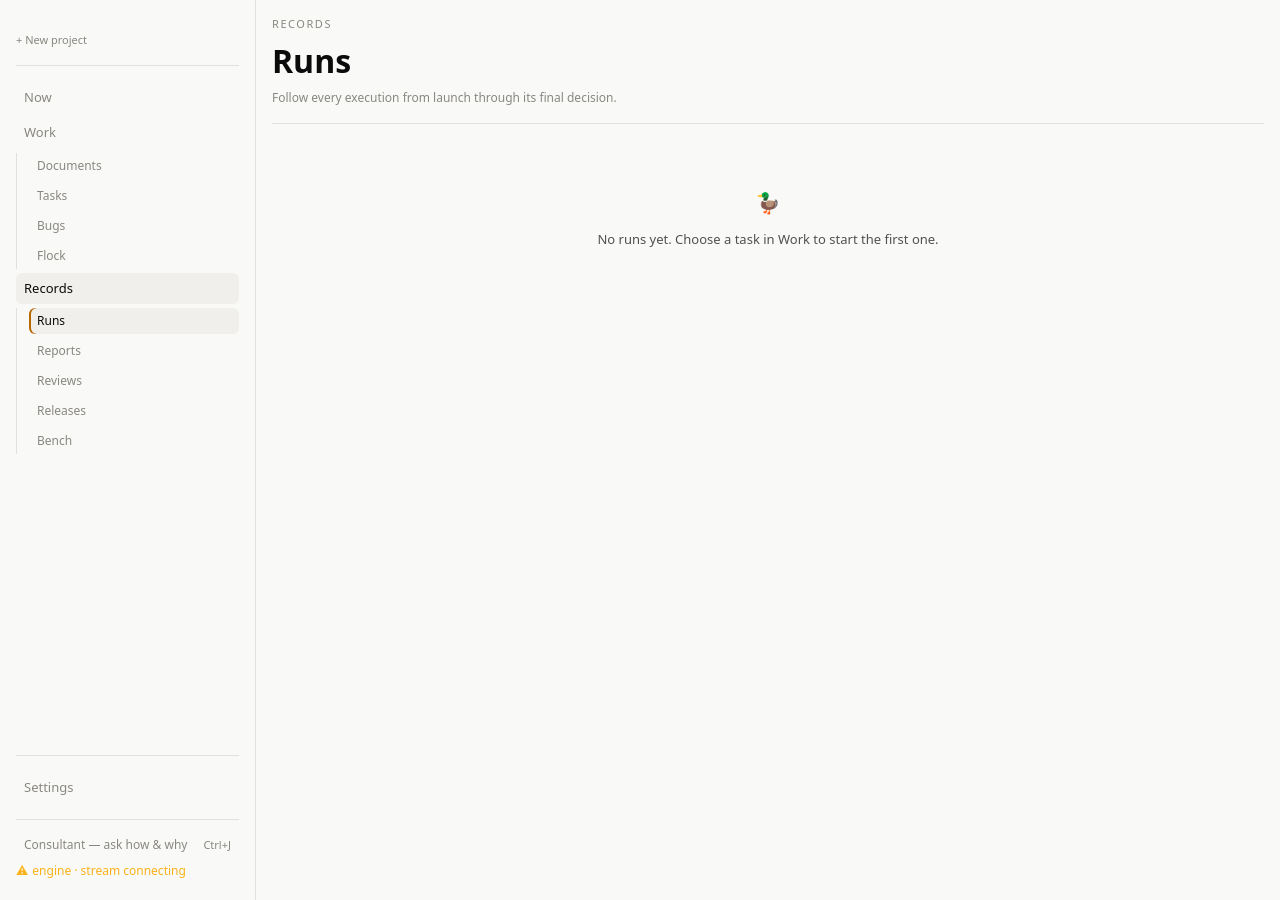
Scenario: the consultant pane in the app › opens with the shortcut, keeps the conversation while navigating, and hides again
Expected: the button with test id "consultant-pane-toggle" is shown, [16,832,239,858]
Step 1. Press j
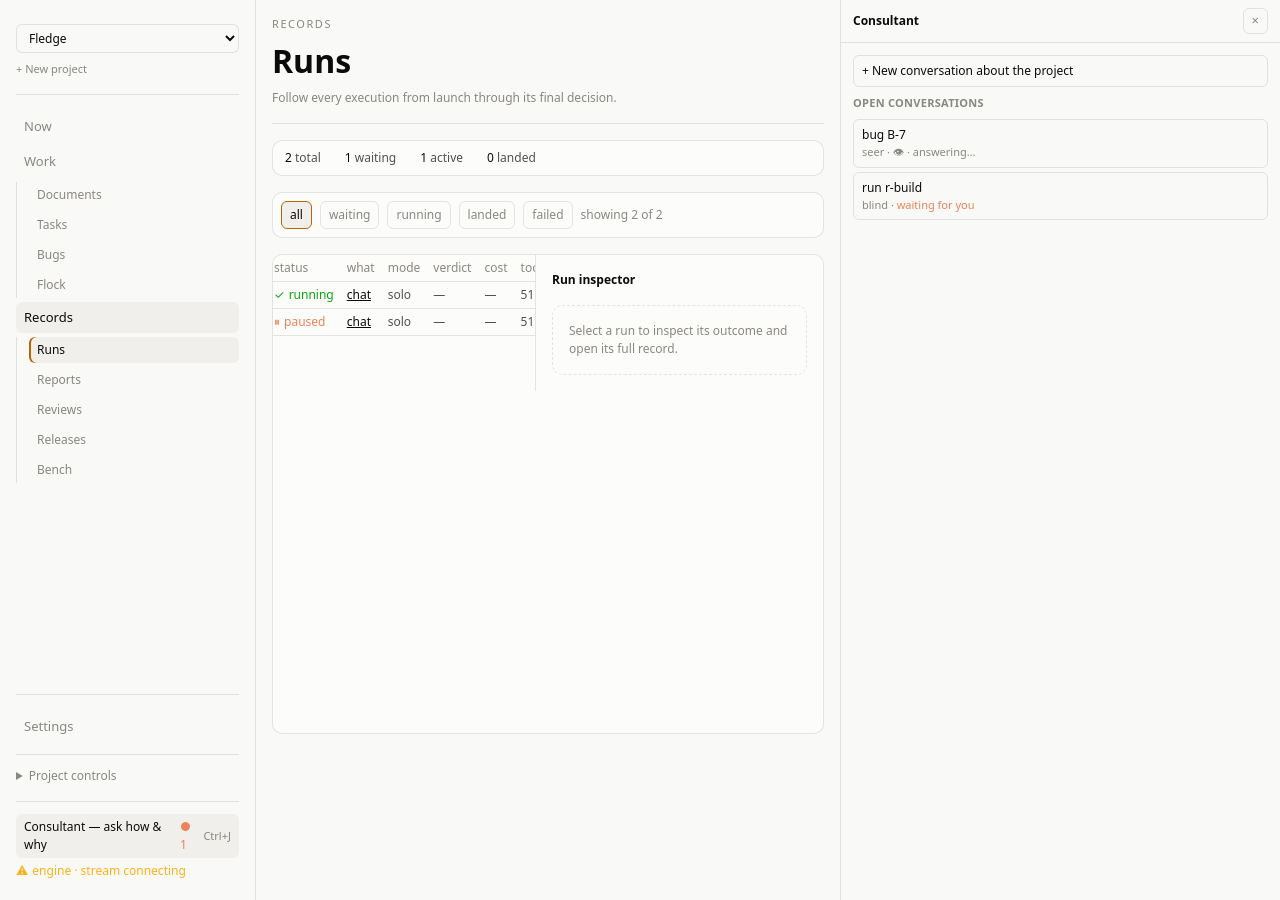
Now the button with test id "consultant-conversation-r-chat" shows "run r-build"
Now the button with test id "consultant-conversation-r-chat" shows "blind"
Now the button with test id "consultant-conversation-r-chat" shows "waiting for you"
Step 2. Click the button with test id "consultant-conversation-r-chat" → click(892, 187), box [853,172,1268,220]
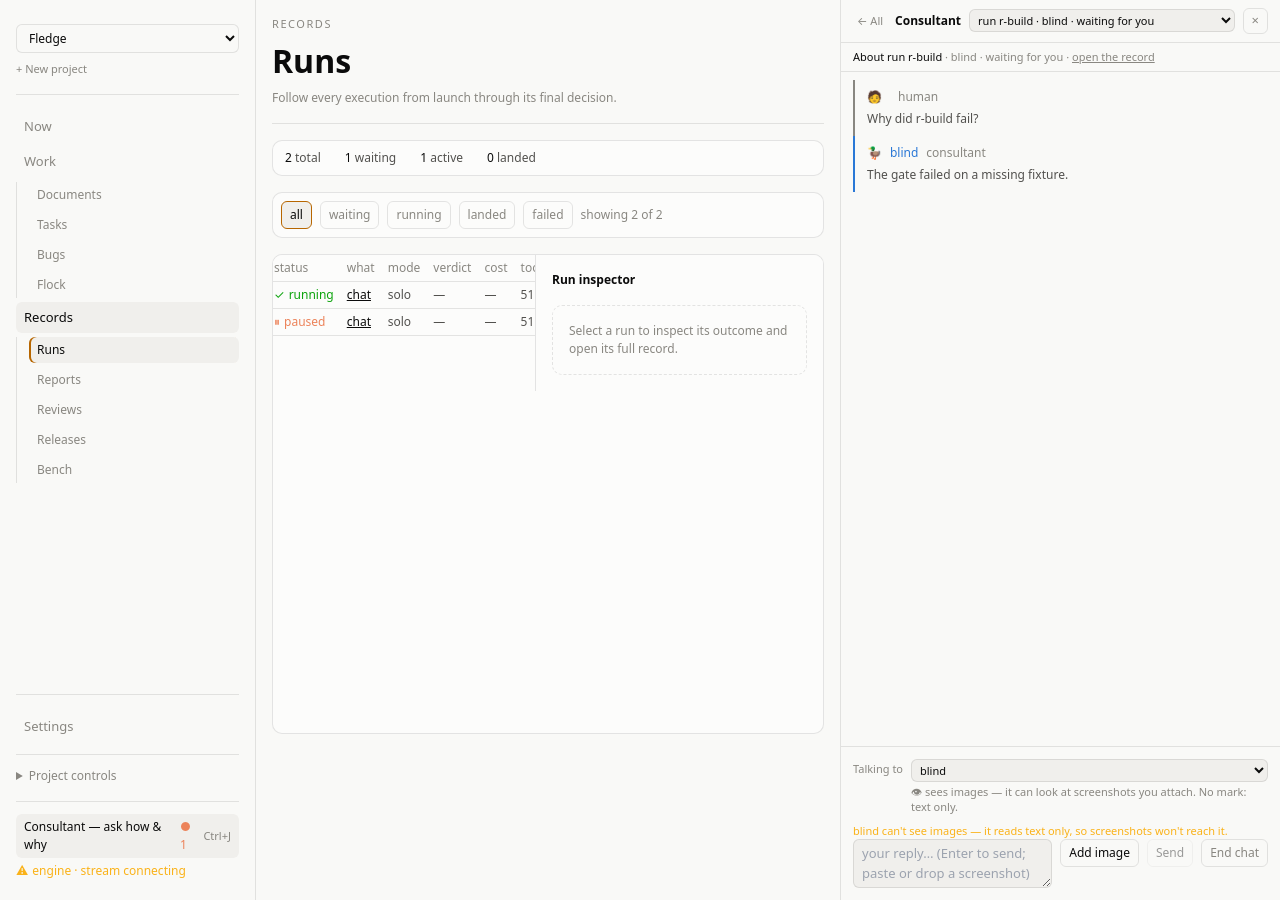
Now the element with test id "consultant-pane" is shown, box [840,0,1279,899]
Now the element with test id "runs-view" is shown, box [272,16,824,734]
Now the text "The gate failed on a missing fixture." is shown, box [867,166,1068,183]
Switch between the open conversations from the pane.
Step 3. Select "bug B-7 · seer · answering…" in the dropdown with test id "consultant-pane-switch" → (1102, 21), box [969,9,1235,32]
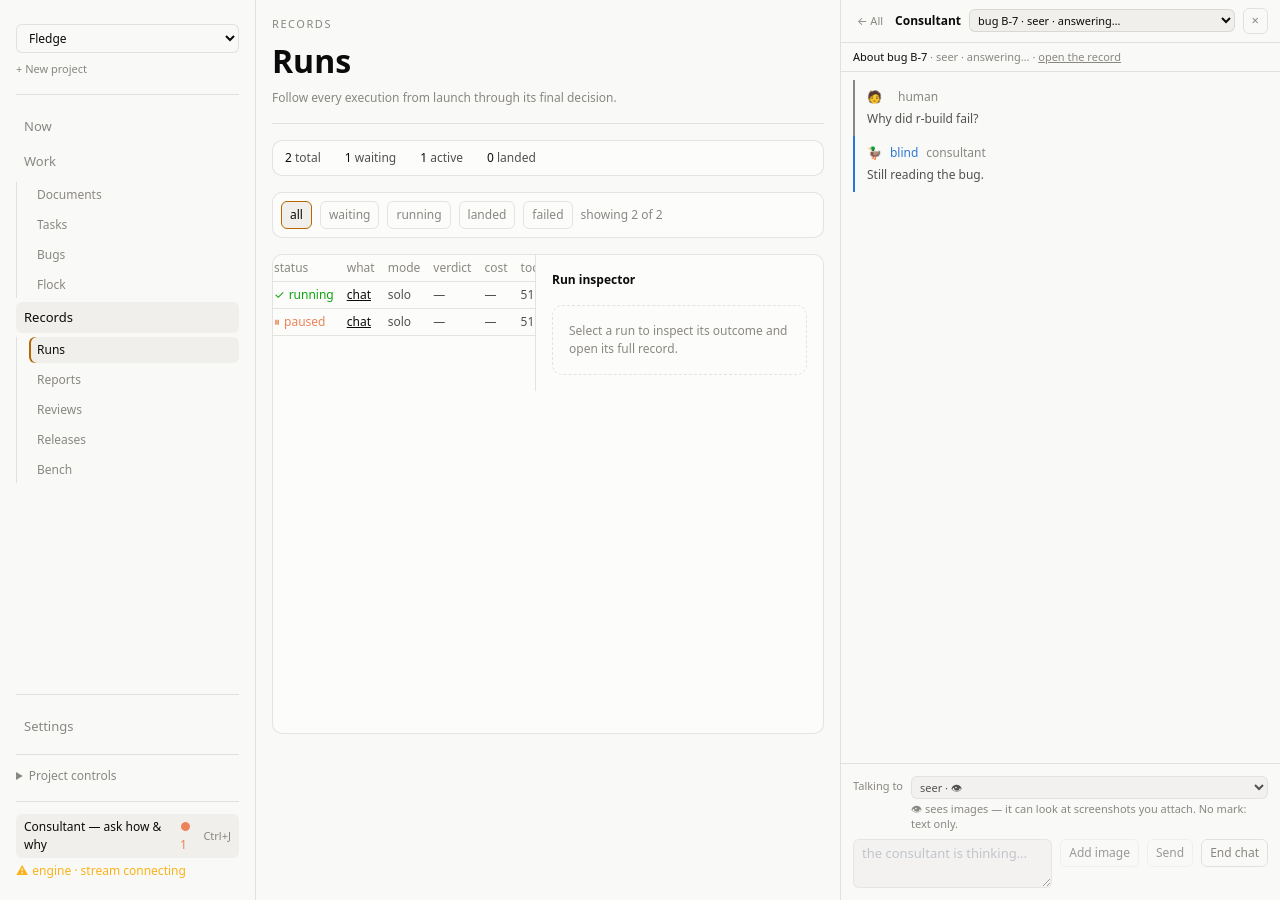
Now the text "Still reading the bug." is shown, box [867,166,984,183]
Step 4. Click the button with test id "consultant-pane-close" → click(1255, 21), box [1243,8,1268,34]
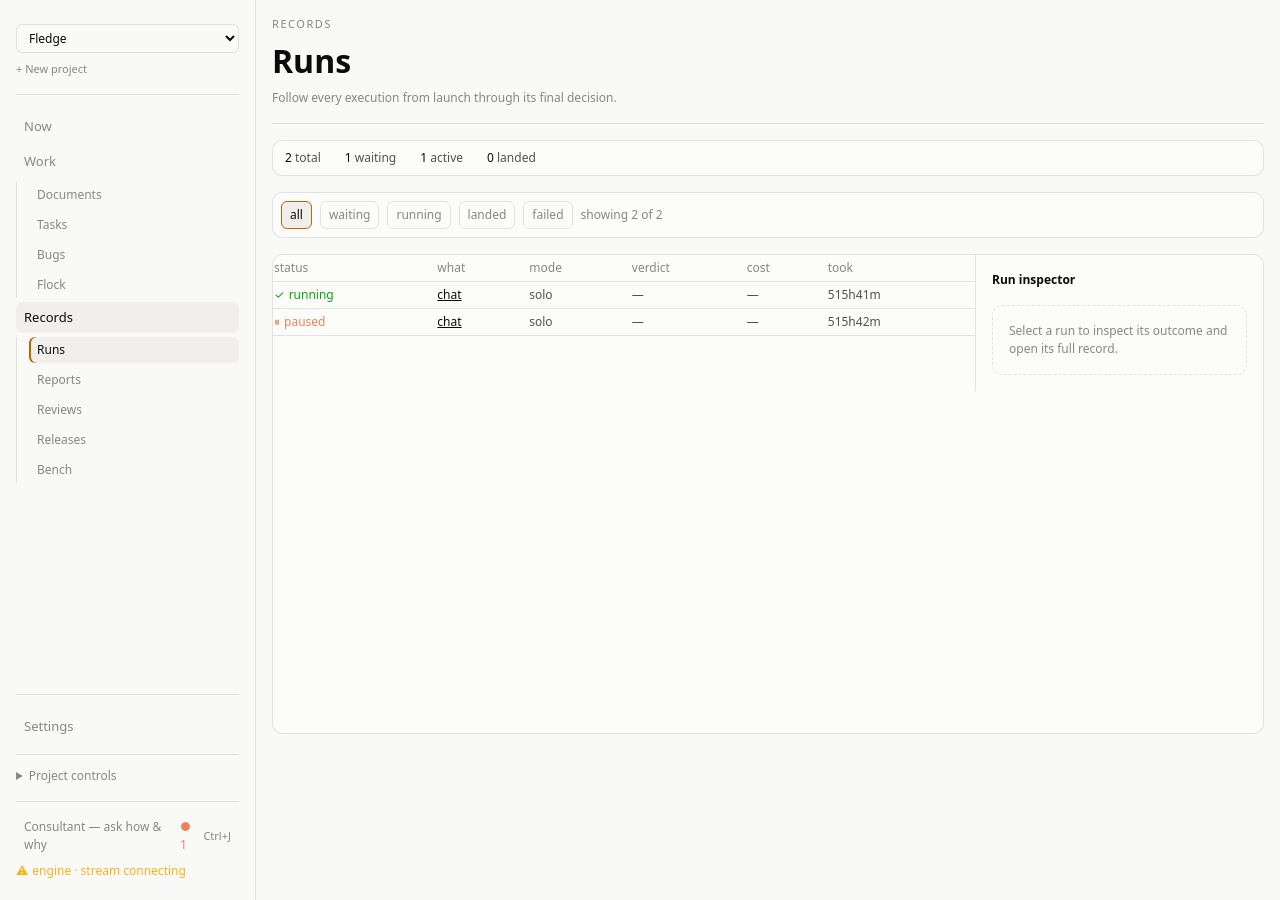
Now the element with test id "consultant-pane" is gone
Step 5. Press j
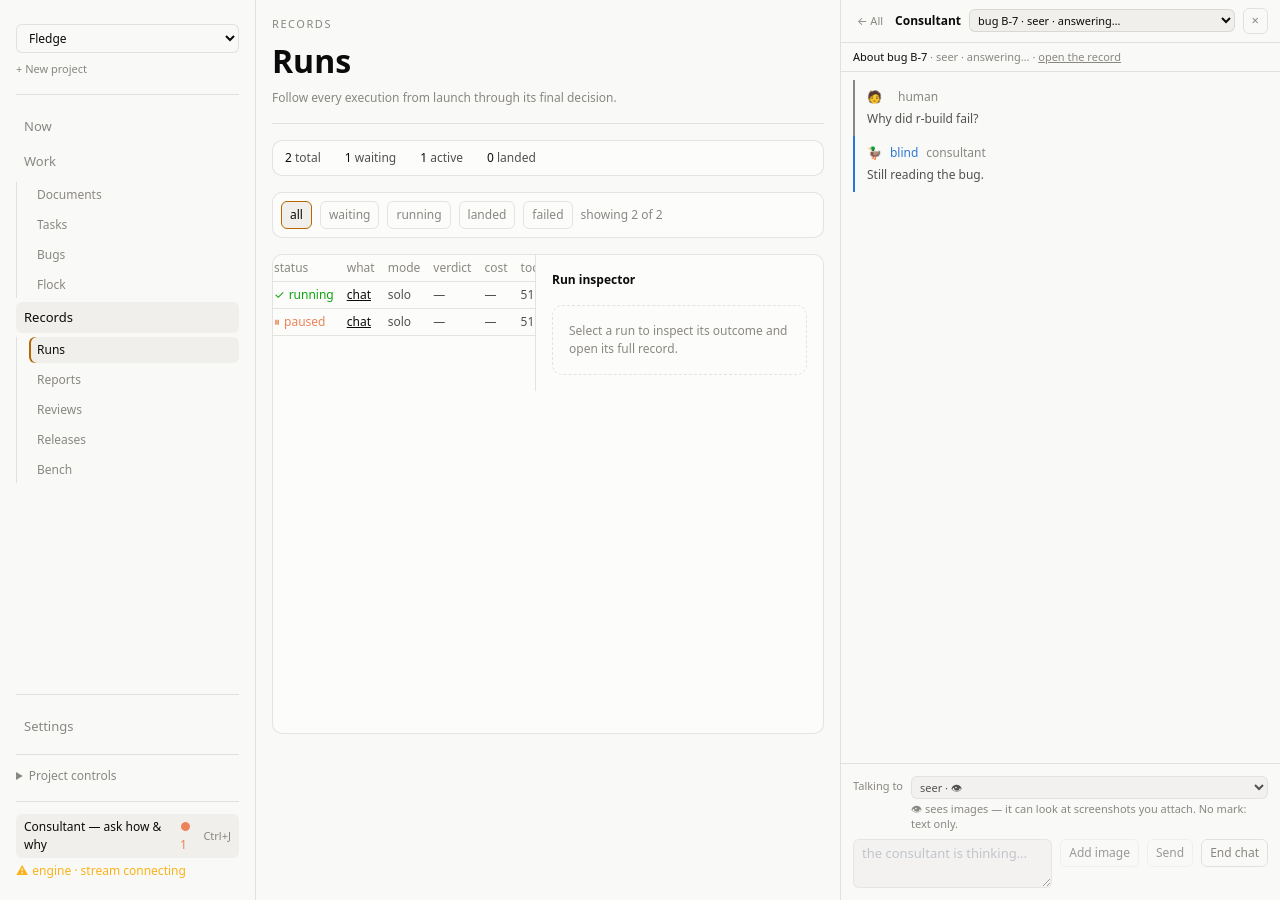
Now the text "Still reading the bug." is shown, box [867,166,984,183]
